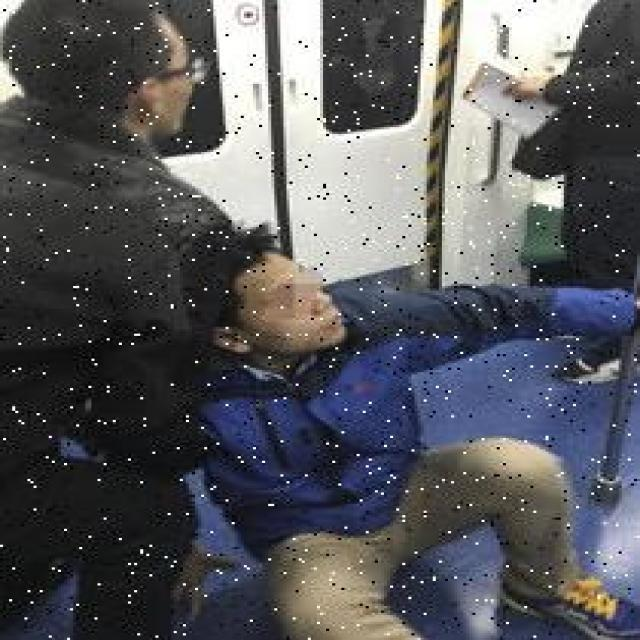fall: (201, 237, 640, 638)
